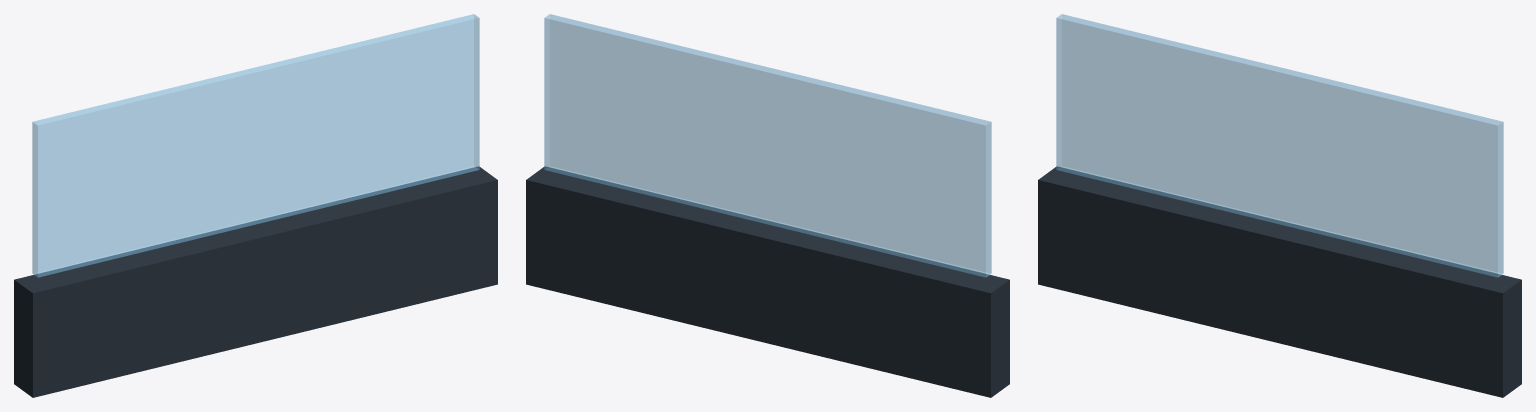
Rendered from window.office_half_glass_4m.glb.
3 views of the same model, side by side, from view 1: azimuth 30°, elevation 25°; view 2: azimuth 150°, elevation 25°; view 3: azimuth 330°, elevation 25° (orthographic).
Visible parts, largest first — view 1: upper_glass, low_wall_cover; view 2: upper_glass, low_wall_cover; view 3: upper_glass, low_wall_cover.
Part boxes in pixels (<box>): upper_glass: <box>32,14,479,277</box>; low_wall_cover: <box>14,166,497,397</box>; upper_glass: <box>544,14,991,277</box>; low_wall_cover: <box>526,166,1009,397</box>; upper_glass: <box>1056,14,1503,277</box>; low_wall_cover: <box>1038,166,1521,397</box>.
Size of the model in its own units: 4 by 2.18 by 0.28.
